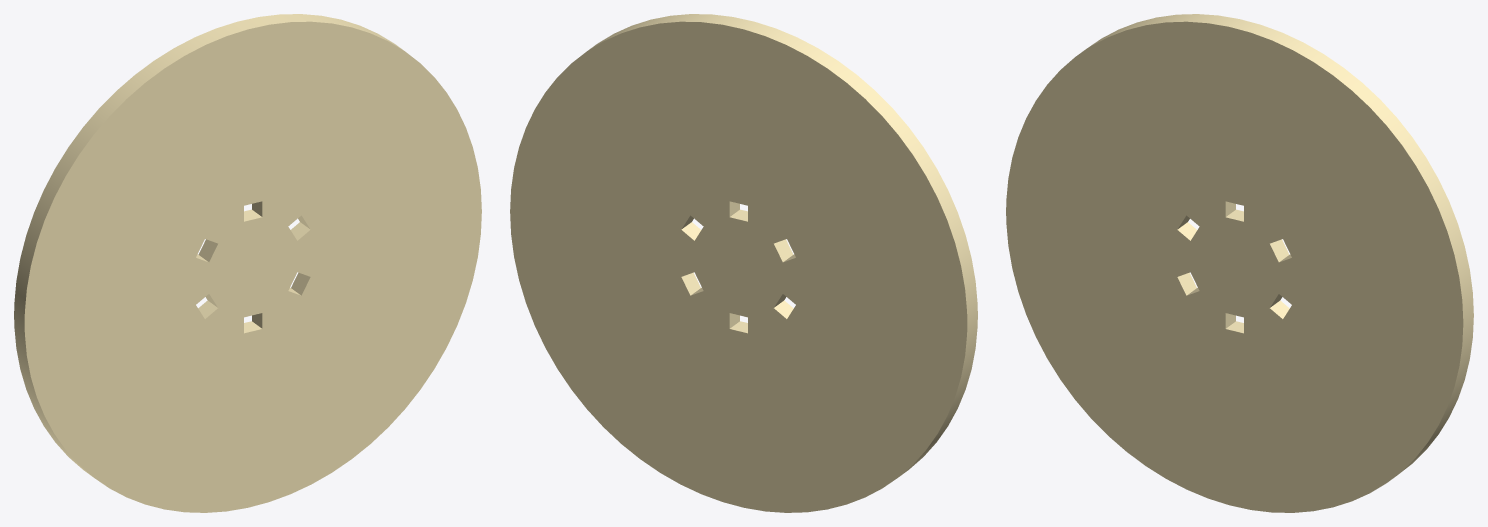
3 views of the same model, side by side, from view 1: azimuth 30°, elevation 25°; view 2: azimuth 150°, elevation 25°; view 3: azimuth 330°, elevation 25° (orthographic).
Visible parts, largest first — view 1: BASE; view 2: BASE; view 3: BASE.
Part boxes in pixels (left/top/right/bottom): BASE: left=14, top=14, right=481, bottom=512; BASE: left=510, top=14, right=977, bottom=512; BASE: left=1006, top=14, right=1473, bottom=512.
Bounding box in the file's own units: 0.15 × 0.15 × 0.006.
